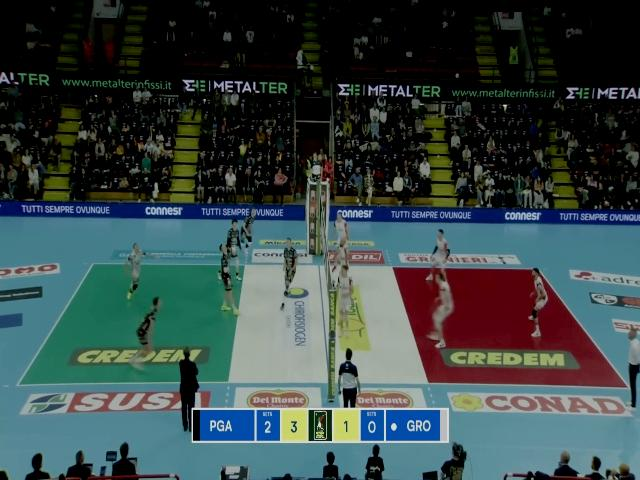volleyball court: (15, 260, 633, 389)
